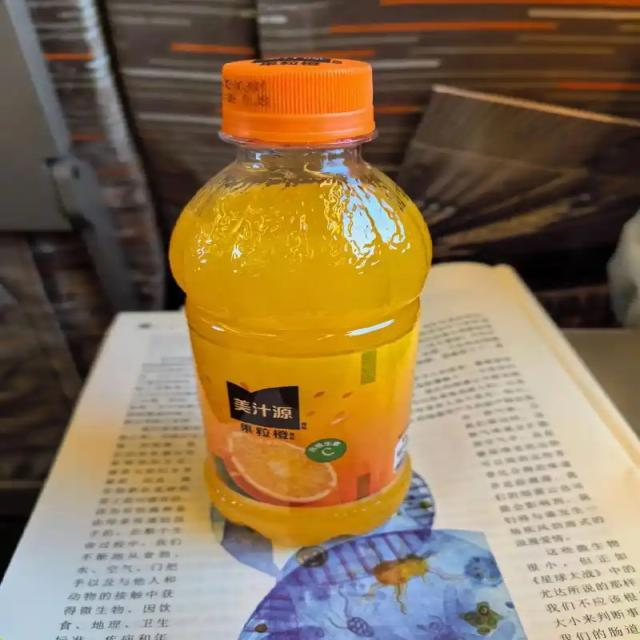bottle: (168, 54, 436, 551)
